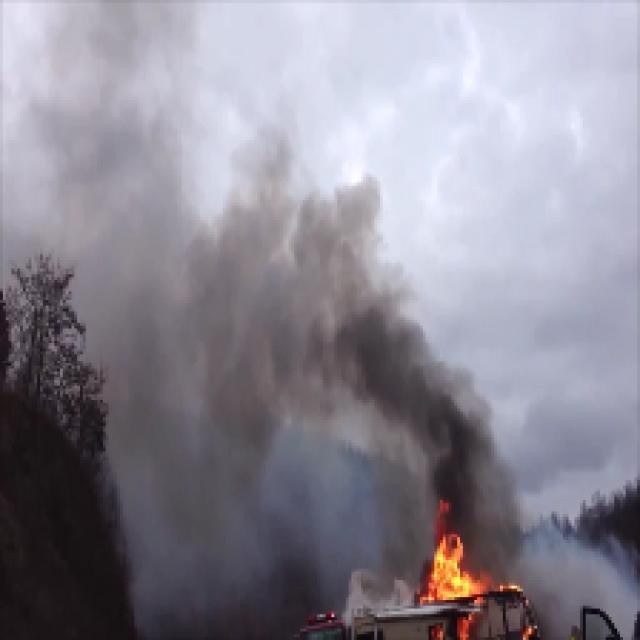smoke: (121, 187, 390, 478), (18, 3, 195, 184)
